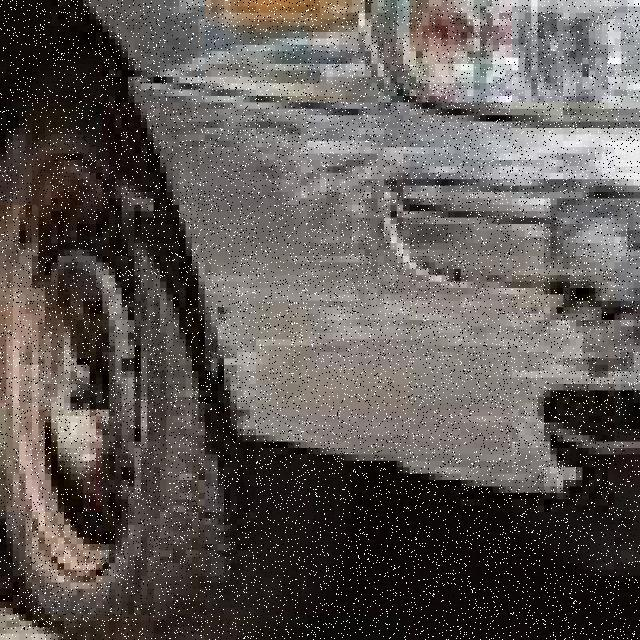front-bumper-dent: (154, 83, 634, 492)
